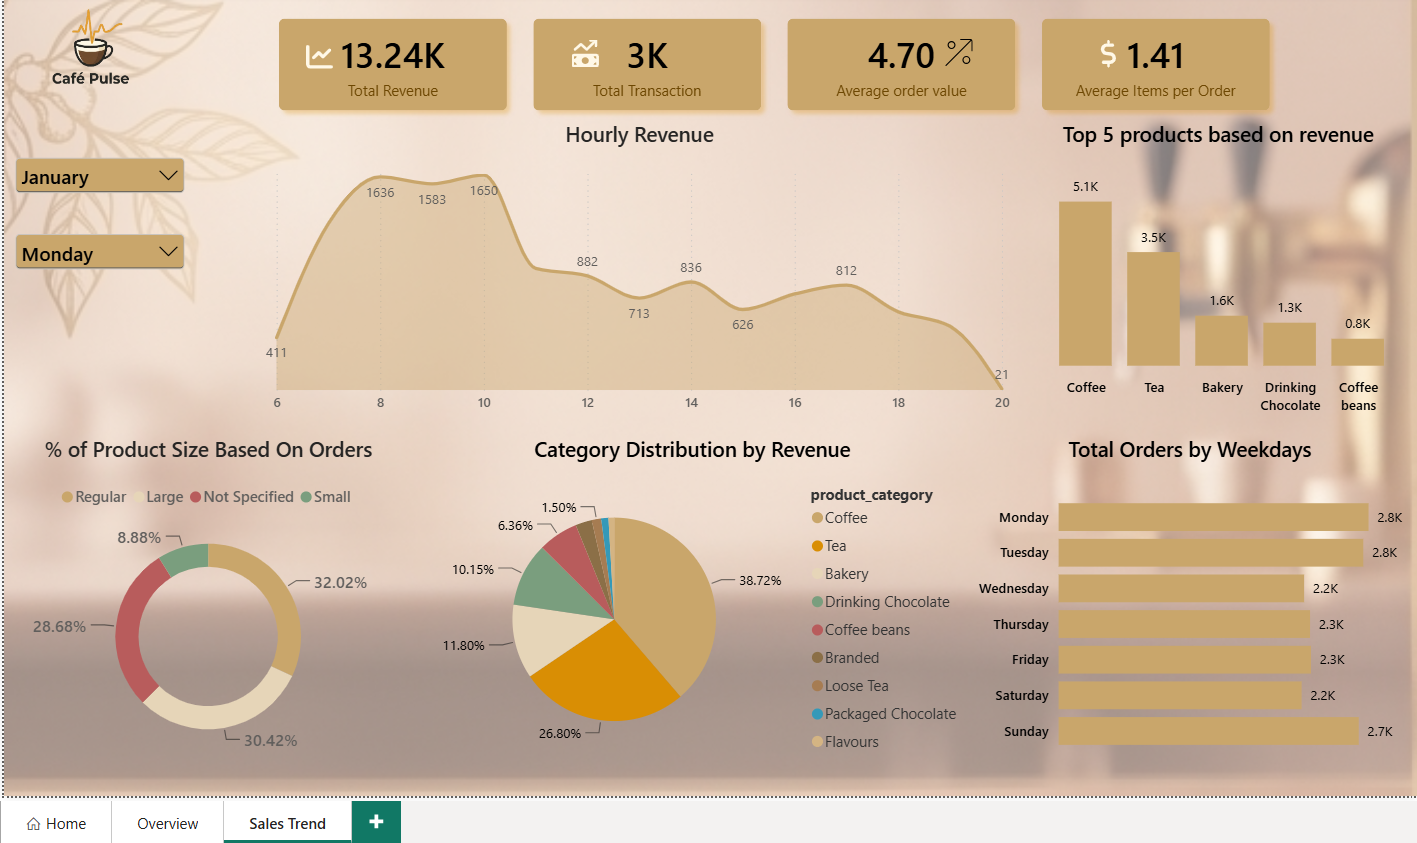

This screenshot's page, from the dashboard's own definition file:
{"tool":"powerbi","page":{"name":"Weekly Report","canvas":[1280,720],"ordinal":2},"visuals":[{"type":"image","box":[0,0,157,91.9],"z":0},{"type":"cardVisual","fields":{"Data":["_Measures.Total Revenue","_Measures.Total Transaction","_Measures.Average order value","_Measures.Average Items per Order"]},"box":[231.4,0,930.2,117.4],"z":1000},{"type":"donutChart","title":"% product size based on orders","fields":{"Category":["Coffeeshop_Cleaned_Data.product_size"],"Y":["_Measures.Total Orders"]},"box":[0,393,369.8,298.8],"z":2000},{"type":"areaChart","title":"Hourly Revenue","fields":{"Y":["_Measures.Total Revenue"],"Category":["Coffeeshop_Cleaned_Data.hour"]},"box":[231.4,108.1,686,273.3],"z":3000},{"type":"columnChart","title":"Top 5 products based on revenue","fields":{"Category":["Coffeeshop_Cleaned_Data.product_category"],"Y":["_Measures.Total Revenue"]},"box":[917.4,108.1,362.8,273.3],"z":4000},{"type":"pieChart","title":"Category Distribution by Revenue","fields":{"Category":["Coffeeshop_Cleaned_Data.product_category"],"Y":["_Measures.Total Revenue"]},"box":[369.8,393,505.8,297.7],"z":5000},{"type":"clusteredBarChart","title":"Total Orders by weekdays","fields":{"Category":["Coffeeshop_Cleaned_Data.weekday name"],"Y":["_Measures.Total Orders"]},"box":[875.6,393,395.3,298.8],"z":6000},{"type":"slicer","fields":{"Values":["Coffeeshop_Cleaned_Data.Month Name"]},"box":[0,132.5,173.3,48.8],"z":7000},{"type":"slicer","fields":{"Values":["Coffeeshop_Cleaned_Data.weekday name"]},"box":[0,201.1,173.3,48.8],"z":8000},{"type":"image","box":[851.2,34.9,25,25],"z":9000},{"type":"image","box":[968.6,36,59.3,24.4],"z":10000},{"type":"image","box":[269.8,36,30,30],"z":11000},{"type":"image","box":[512.8,36,25,25],"z":12000}]}

Visuals, with their boxes on the page's 1280x720 design canvas (x1, y1, x2, y2). These are canvas units, not pixel positions in the 1417x843 screenshot, which may show the page scaled, cropped or inside an application window:
image: pyautogui.locateOnScreen(0, 0, 157, 92)
cardVisual - _Measures.Total Revenue x _Measures.Total Transaction: pyautogui.locateOnScreen(231, 0, 1162, 117)
"% product size based on orders" donutChart: pyautogui.locateOnScreen(0, 393, 370, 692)
"Hourly Revenue" areaChart: pyautogui.locateOnScreen(231, 108, 917, 381)
"Top 5 products based on revenue" columnChart: pyautogui.locateOnScreen(917, 108, 1280, 381)
"Category Distribution by Revenue" pieChart: pyautogui.locateOnScreen(370, 393, 876, 691)
"Total Orders by weekdays" clusteredBarChart: pyautogui.locateOnScreen(876, 393, 1271, 692)
slicer - Coffeeshop_Cleaned_Data.Month Name: pyautogui.locateOnScreen(0, 132, 173, 181)
slicer - Coffeeshop_Cleaned_Data.weekday name: pyautogui.locateOnScreen(0, 201, 173, 250)
image: pyautogui.locateOnScreen(851, 35, 876, 60)
image: pyautogui.locateOnScreen(969, 36, 1028, 60)
image: pyautogui.locateOnScreen(270, 36, 300, 66)
image: pyautogui.locateOnScreen(513, 36, 538, 61)
